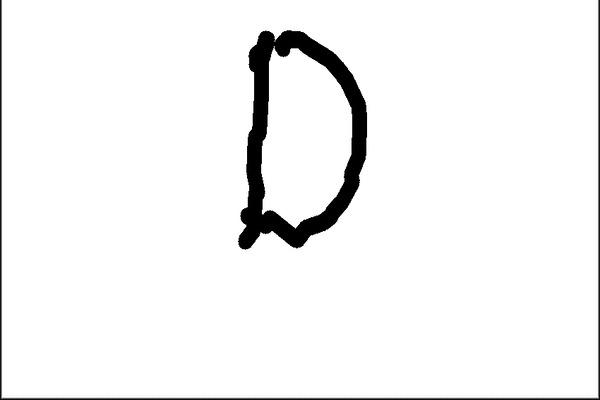D: (234, 24, 373, 254)
